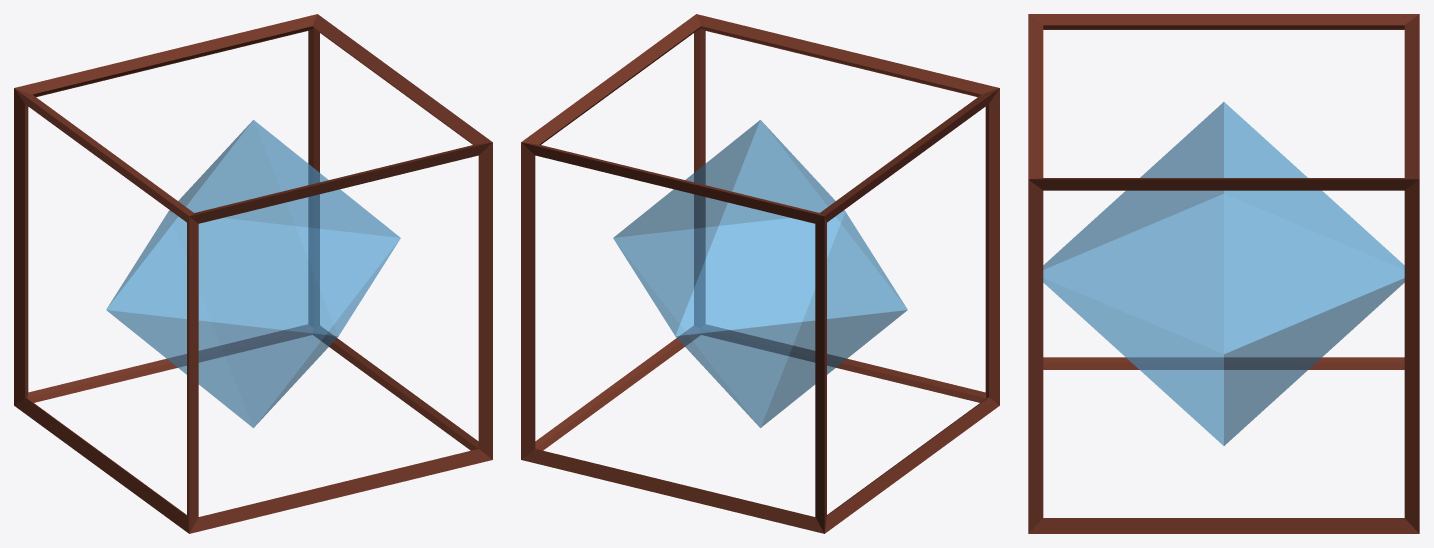
File: dual_hexaedro.glb
3 views of the same model, side by side, from view 1: azimuth 30°, elevation 25°; view 2: azimuth 150°, elevation 25°; view 3: azimuth 270°, elevation 25° (orthographic). The views are drawn at different scales.
Visible parts, largest first — view 1: dual, Cube; view 2: dual, Cube; view 3: dual, Cube.
Part boxes in pixels (bbox=[...]): dual: bbox=[106, 120, 400, 427]; Cube: bbox=[14, 14, 492, 533]; dual: bbox=[613, 120, 907, 427]; Cube: bbox=[521, 14, 999, 533]; dual: bbox=[1043, 102, 1404, 445]; Cube: bbox=[1028, 14, 1419, 533].
Bounding box in the file's own units: 2.06 × 2.06 × 2.06.
